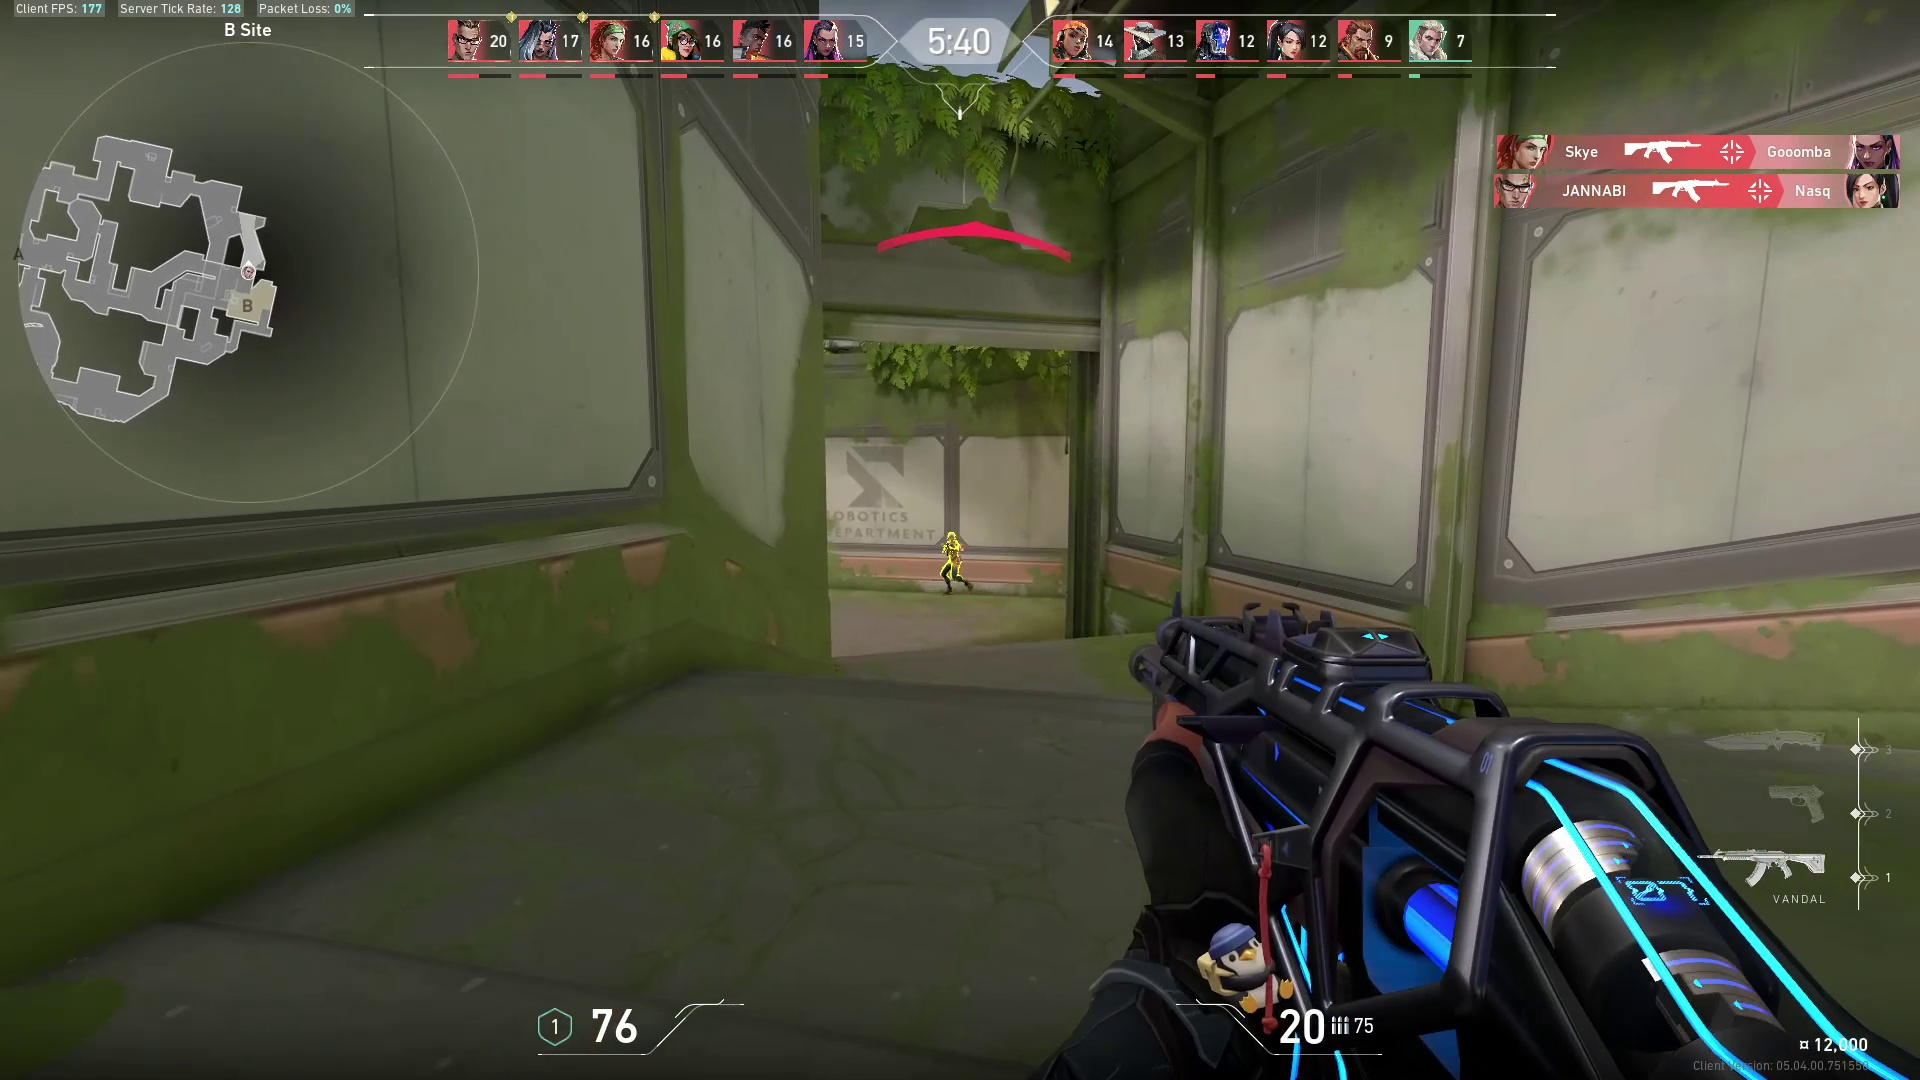enemy_body: (936, 541, 976, 597)
enemy_head: (945, 530, 957, 542)
